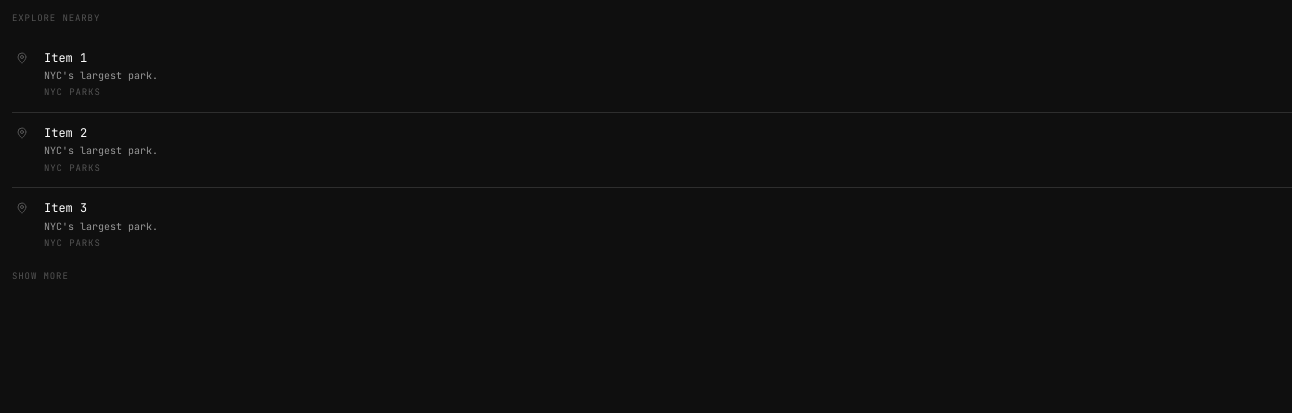
Test: RecommendationsCard › clicking show-more reveals remaining items up to 5
The width and height of the screenshot is (1292, 413).
Click the button "Show more": (40, 277) 12,270 -> 69,284
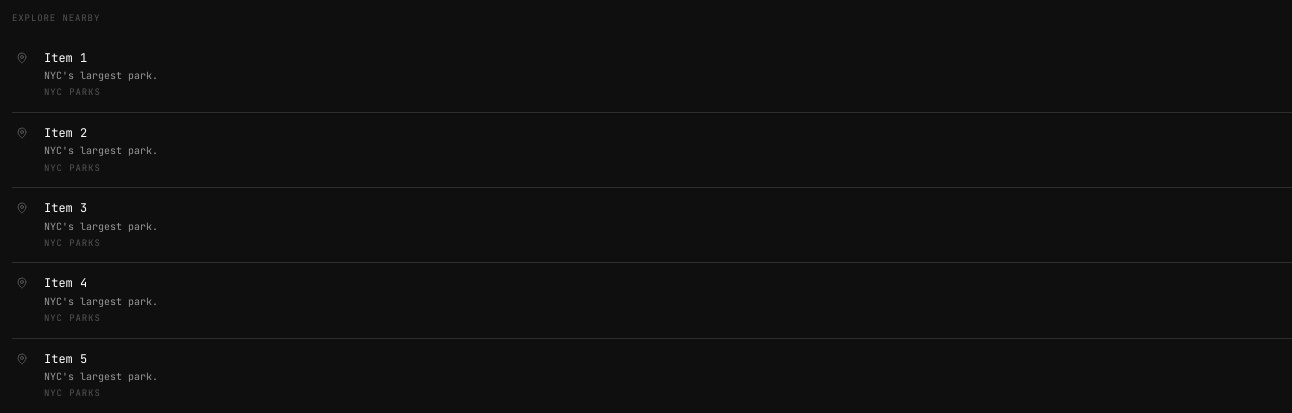
Result: the text "Item 4" is shown at 44,275 -> 87,291
Result: the text "Item 5" is shown at 44,350 -> 87,366
